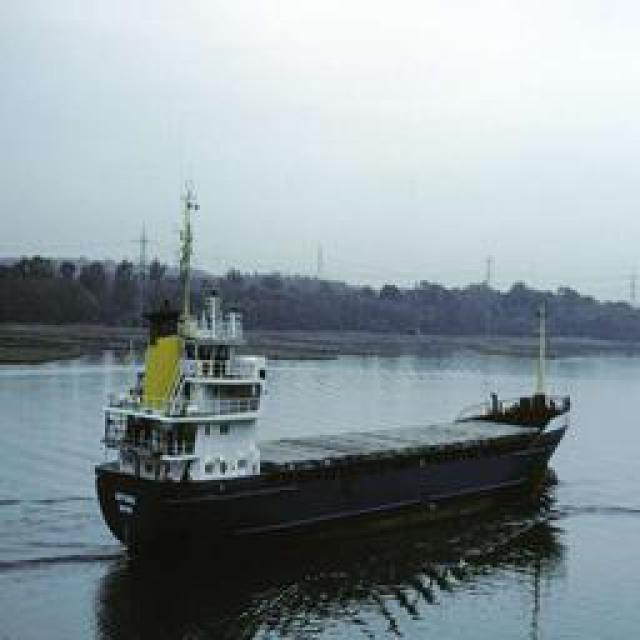Ship: (92, 338, 570, 566)
